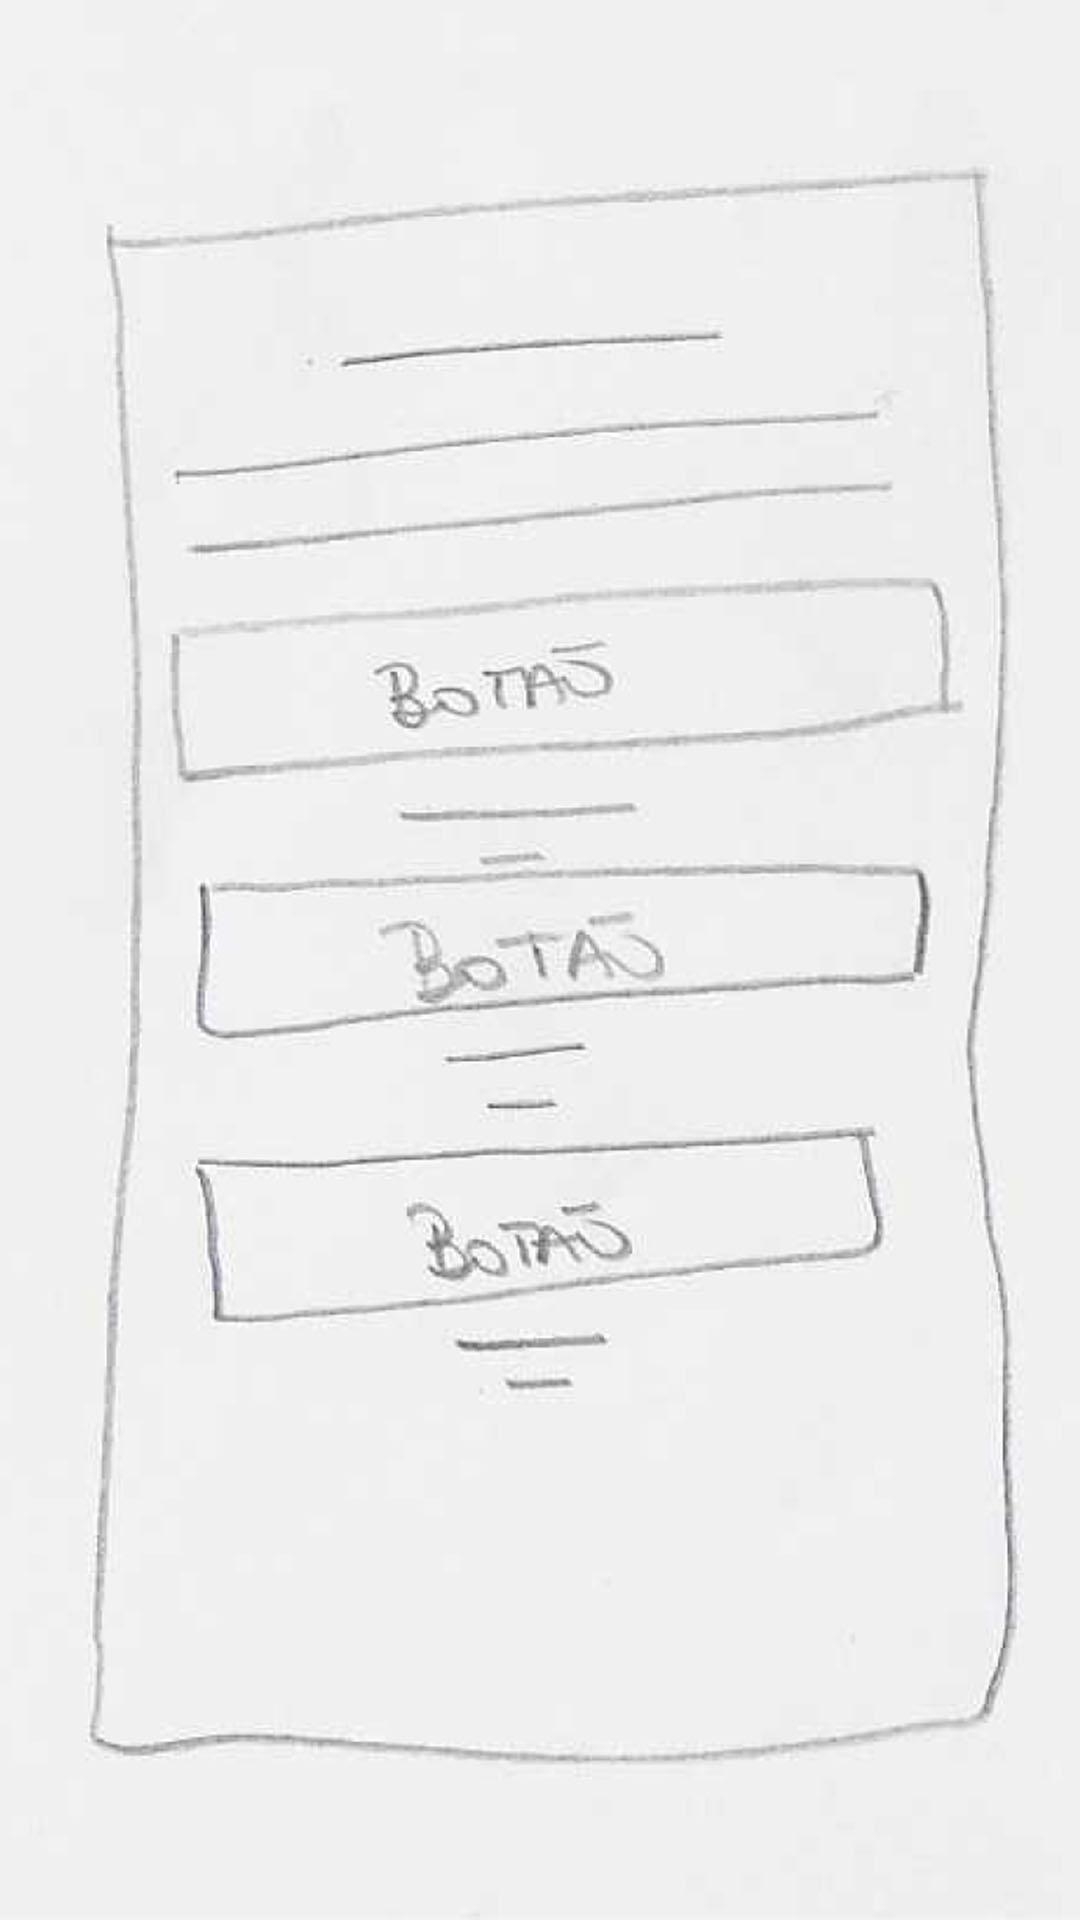Button: (174, 579, 949, 782), (191, 1130, 884, 1324), (189, 869, 930, 1043)
Label: (170, 332, 893, 555), (397, 800, 637, 870), (436, 1044, 589, 1113), (454, 1336, 607, 1398)
Screen: (86, 169, 1010, 1764)
